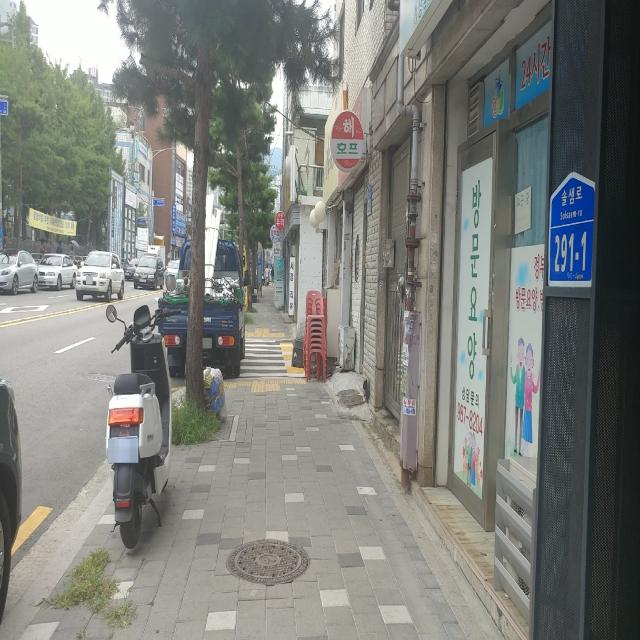횡단보도: (211, 340, 289, 378)
